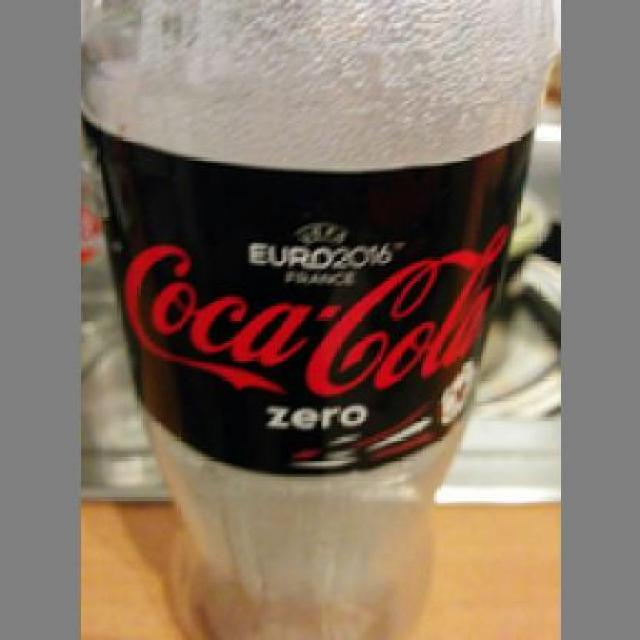Soda: (76, 0, 552, 637)
